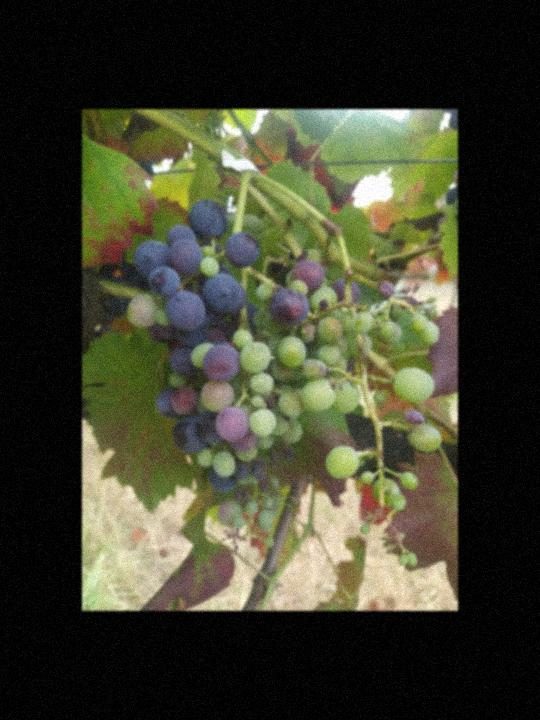grape: (127, 200, 306, 549), (287, 247, 443, 570)
